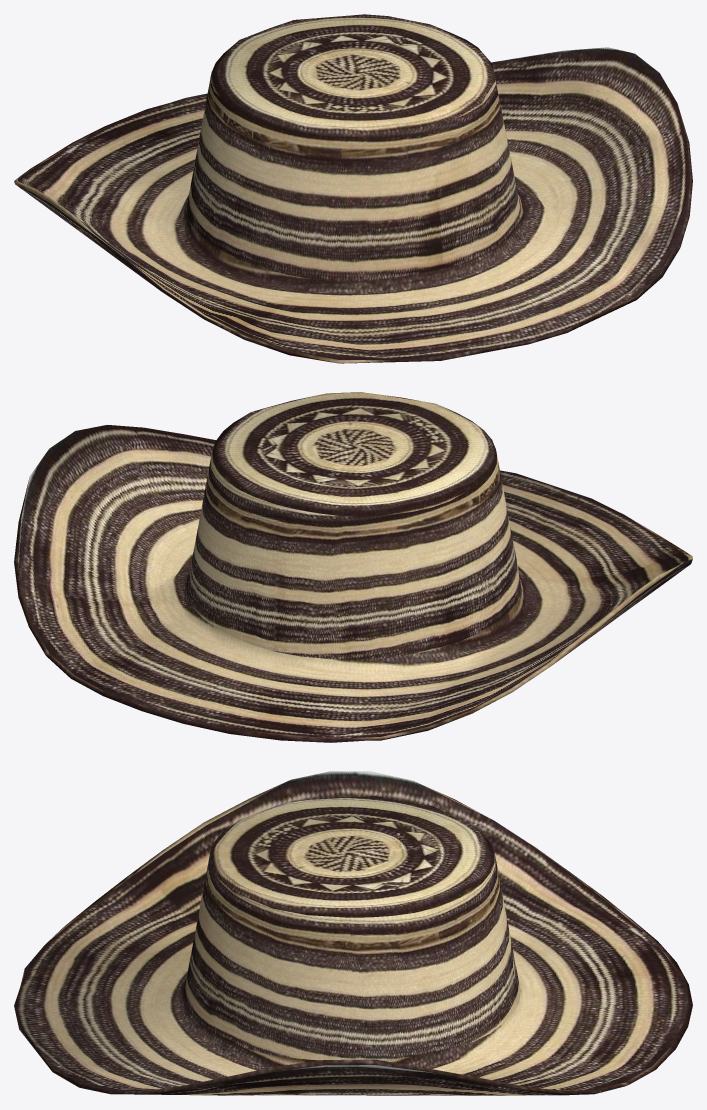
File: sombrero_vueltiao_colombia.lod2.glb
3 views of the same model, one above another, from view 1: azimuth 30°, elevation 25°; view 2: azimuth 150°, elevation 25°; view 3: azimuth 270°, elevation 25° (orthographic).
Visible parts, largest first — view 1: Retopo_Sombrero_Vueltiao[1]; view 2: Retopo_Sombrero_Vueltiao[1]; view 3: Retopo_Sombrero_Vueltiao[1].
Boxes of the visible parts, box(x1,y1,x2,y2) form: Retopo_Sombrero_Vueltiao[1]: box(14, 14, 692, 363); Retopo_Sombrero_Vueltiao[1]: box(14, 392, 692, 742); Retopo_Sombrero_Vueltiao[1]: box(14, 771, 692, 1095).
Size of the model in its own units: 0.4888 by 0.1212 by 0.4861.
Materials: 1 (1 with a texture image).
